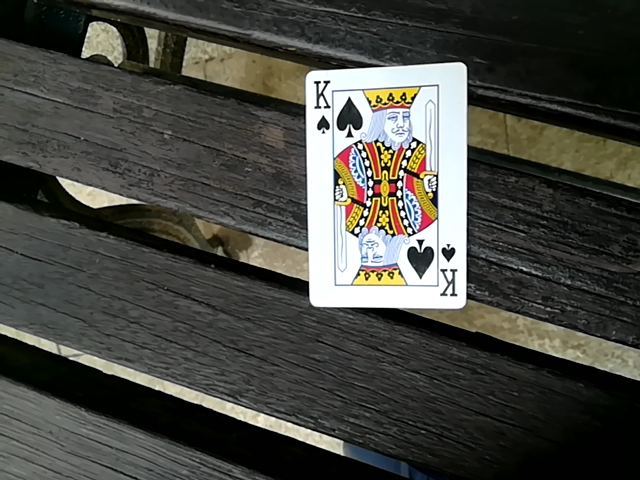ht k: (302, 63, 469, 312)
